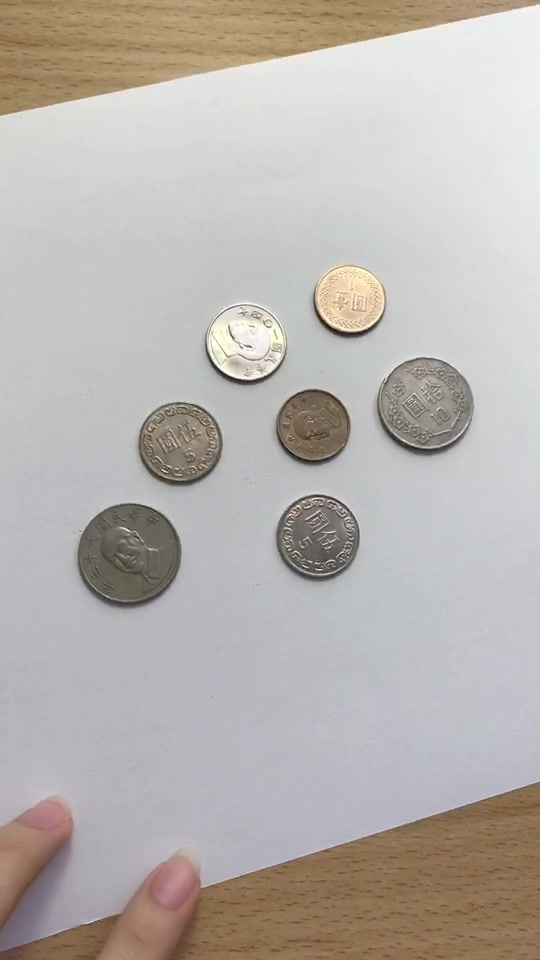1 dallar: (265, 382, 358, 466), (303, 259, 396, 343)
10 dallar: (66, 498, 188, 613), (365, 349, 487, 464)
5 dallar: (133, 400, 227, 493), (199, 294, 293, 387), (270, 488, 364, 581)
